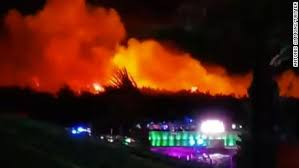fire: (90, 78, 104, 94)
smoke: (14, 7, 214, 83)
